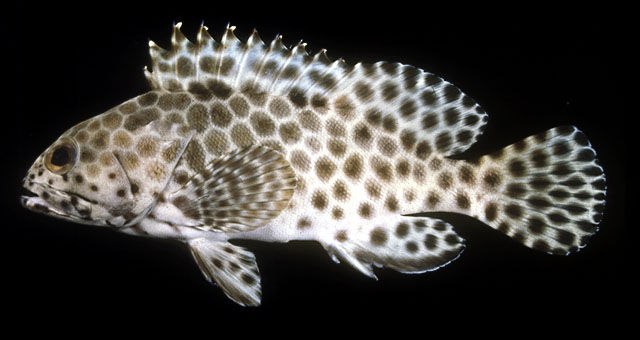fish: (20, 20, 608, 308)
